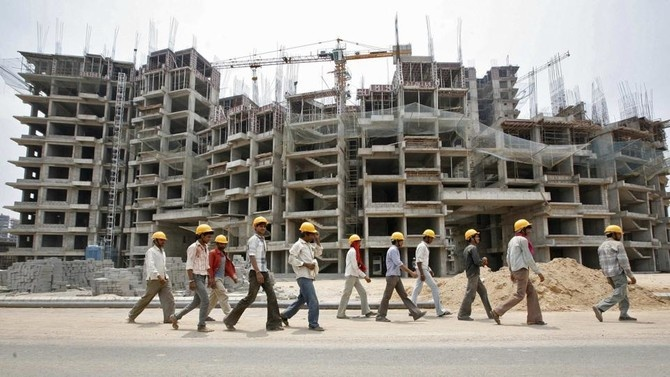yellow: (514, 219, 533, 240), (195, 223, 213, 245), (299, 222, 315, 241), (605, 225, 622, 242), (251, 217, 267, 234), (465, 228, 480, 244), (152, 231, 166, 248), (214, 232, 227, 250), (390, 232, 404, 247), (422, 228, 435, 244), (348, 234, 361, 248)
